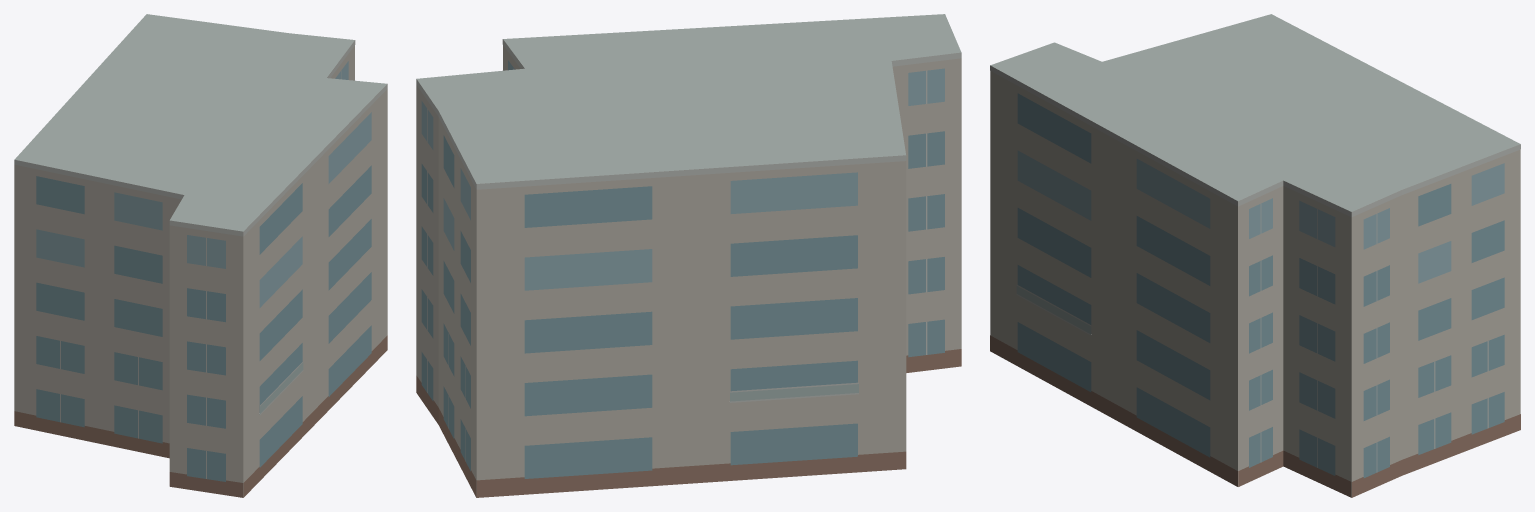
File: survey-upis-32777088.glb
3 views of the same model, side by side, from view 1: azimuth 30°, elevation 25°; view 2: azimuth 150°, elevation 25°; view 3: azimuth 270°, elevation 25° (orthographic). The views are drawn at different scales.
Visible parts, largest first — view 1: survey-upis-32777088.tmp; view 2: survey-upis-32777088.tmp; view 3: survey-upis-32777088.tmp.
Part boxes in pixels (<box>): survey-upis-32777088.tmp: <box>14,14,387,497</box>; survey-upis-32777088.tmp: <box>416,14,961,497</box>; survey-upis-32777088.tmp: <box>990,14,1520,497</box>.
Bounding box in the file's own units: 19.62 × 13.2 × 22.22.
